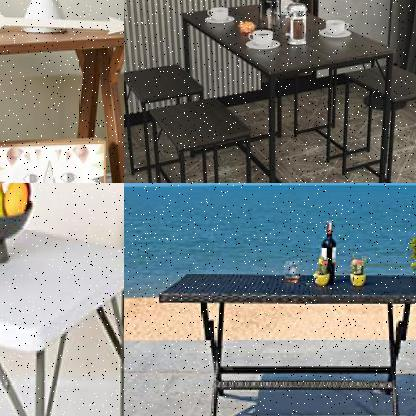table: (173, 0, 403, 182), (155, 271, 415, 415), (0, 195, 123, 415), (0, 10, 123, 182)
